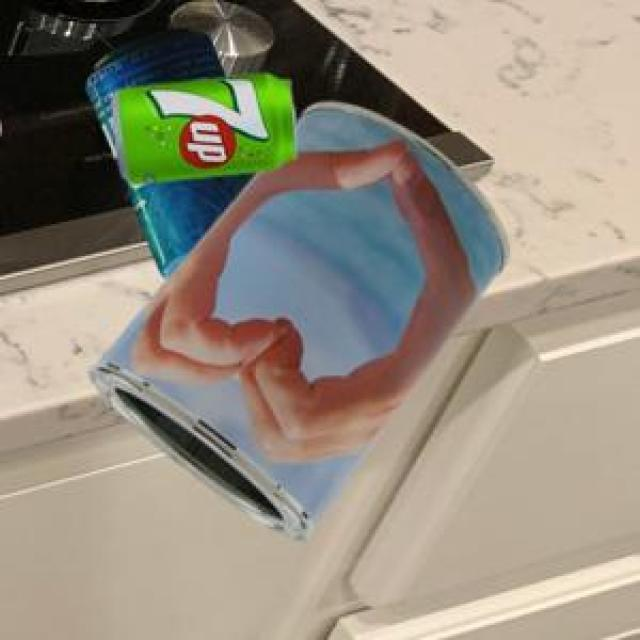Can: (86, 99, 507, 539), (84, 25, 254, 276), (110, 69, 293, 180)
